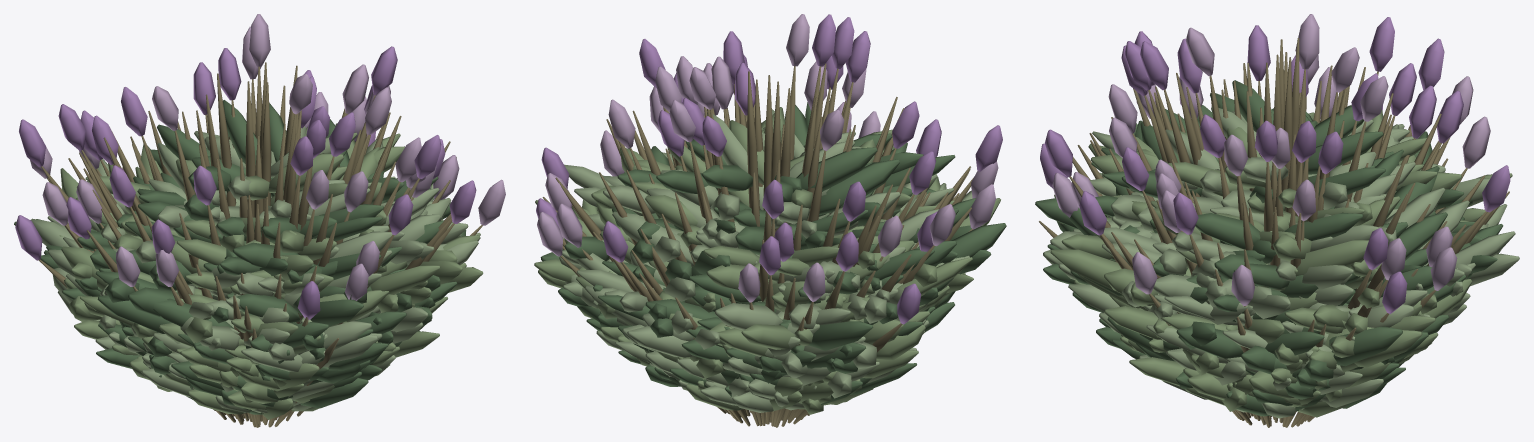
The model's file is lavender-border.glb.
3 views of the same model, side by side, from view 1: azimuth 30°, elevation 25°; view 2: azimuth 150°, elevation 25°; view 3: azimuth 270°, elevation 25° (orthographic). The views are drawn at different scales.
Parts seen in each view (by area): view 1: Lavender shrub; view 2: Lavender shrub; view 3: Lavender shrub.
Boxes of the visible parts, left/top/right/bottom form: Lavender shrub: left=14, top=14, right=505, bottom=427; Lavender shrub: left=534, top=14, right=1006, bottom=427; Lavender shrub: left=1035, top=14, right=1519, bottom=427.
Bounding box in the file's own units: 0.8565 × 0.7365 × 0.8447.
